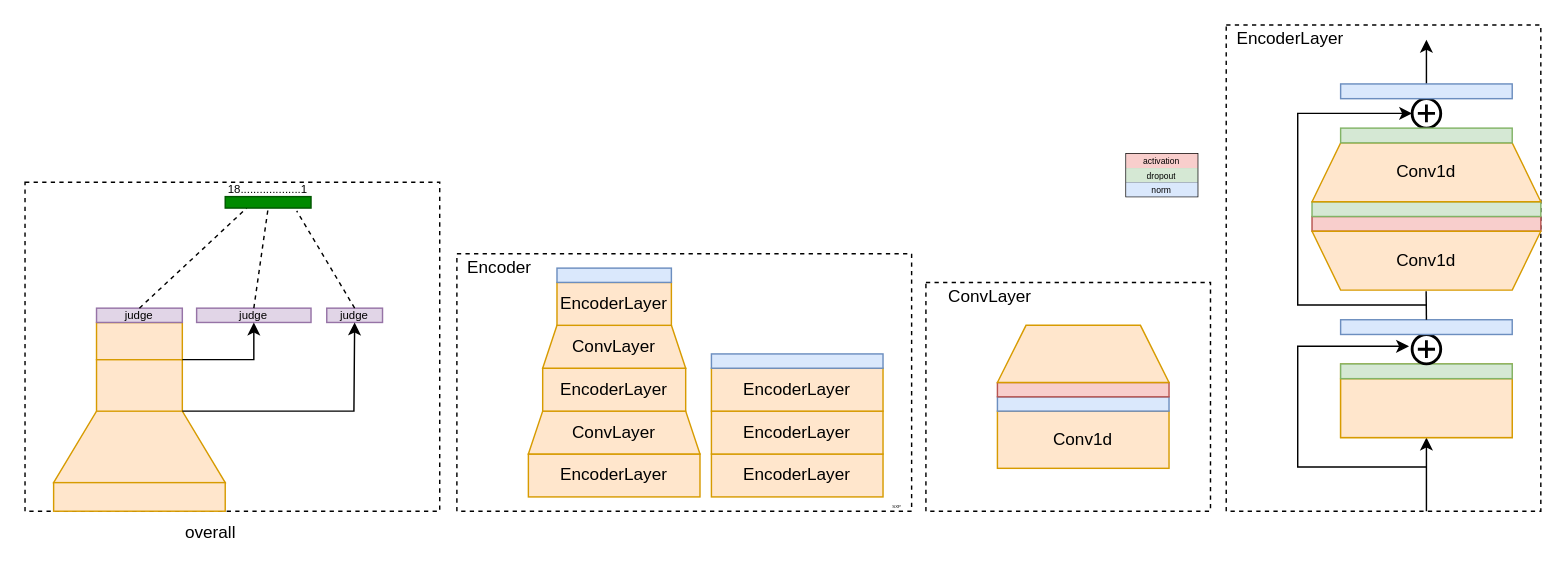
This 1566x579 diagram has some shape labels left out. The box of each missing label's shape, as (x1, y1, x2, y2) in pixels:
attention: (1339, 377, 1512, 438)
Embedding: (52, 481, 225, 511)
Encoder1: (52, 410, 225, 483)
Encoder2: (95, 358, 182, 411)
Encoder3: (95, 321, 182, 360)
MaxPool1d: (996, 324, 1169, 383)
